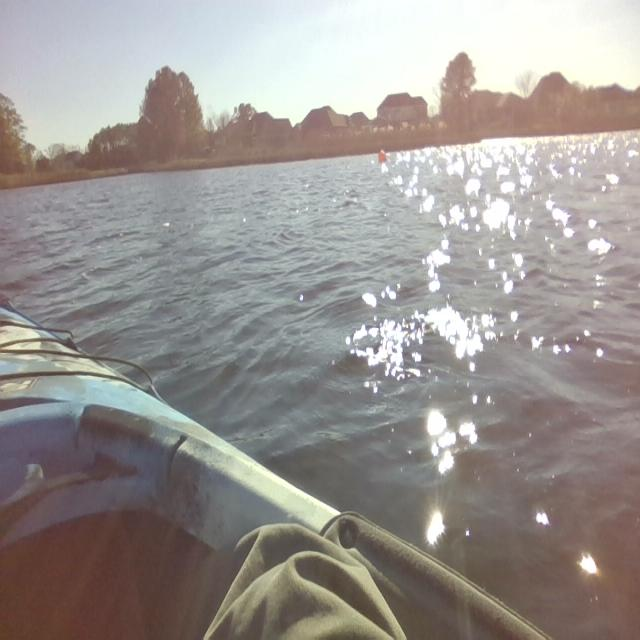Buoy: (373, 145, 389, 171)
